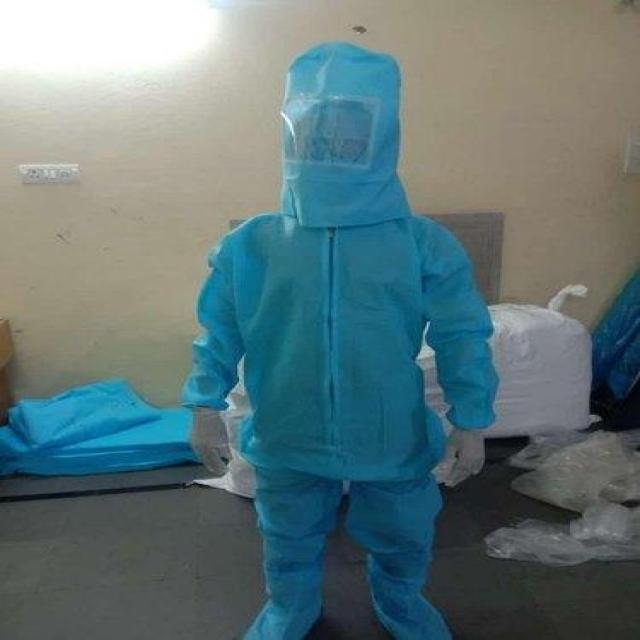Coverall: (173, 51, 581, 631)
Gloves: (410, 417, 500, 503), (154, 398, 258, 471)
